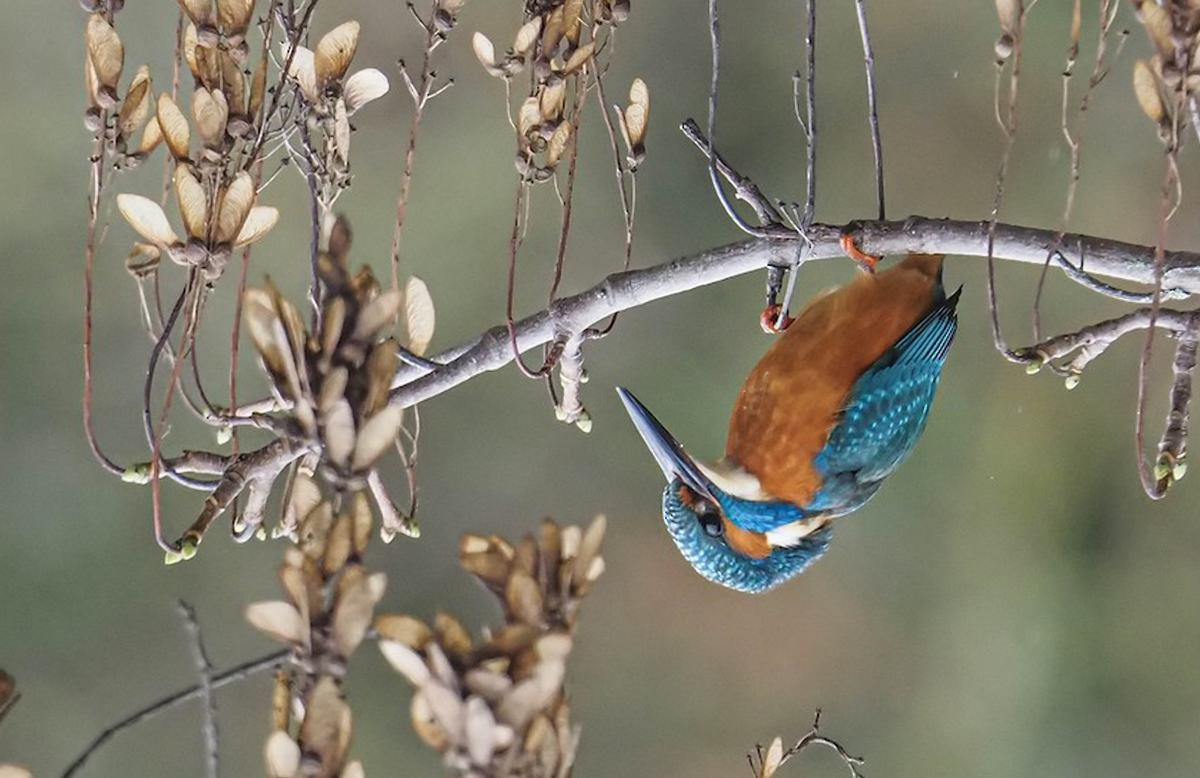kingfisher: (610, 195, 948, 588)
